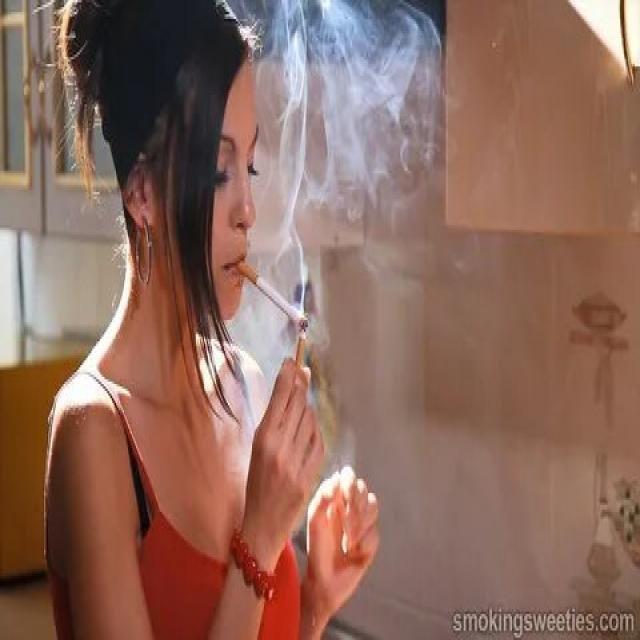cigarette: (235, 260, 309, 336), (293, 329, 311, 377)
